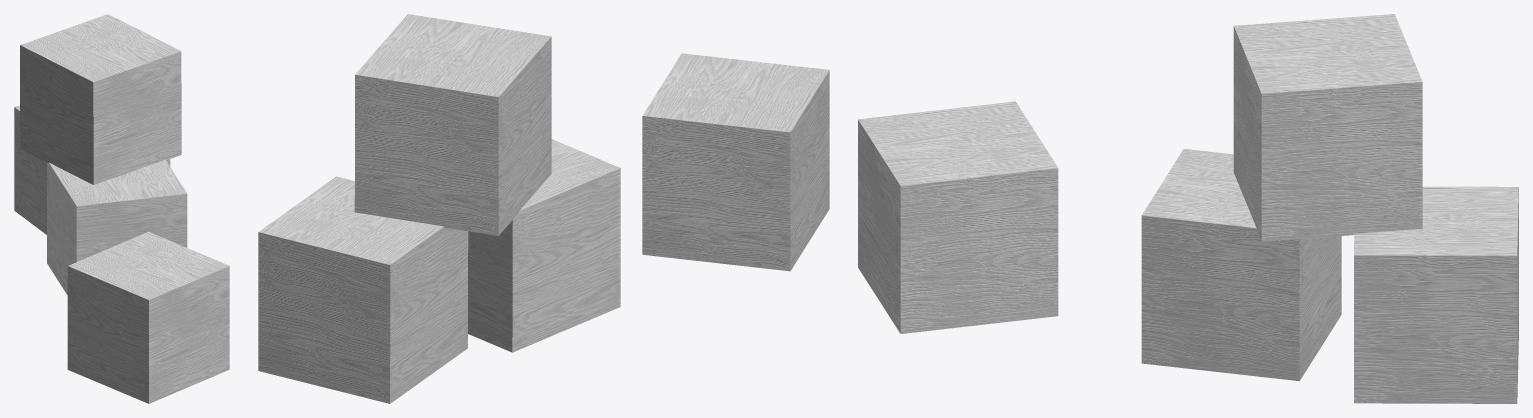
The model's file is woodenblocks.fbx.
The picture shows the model from 3 angles, left to right: view 1: azimuth 30°, elevation 25°; view 2: azimuth 150°, elevation 25°; view 3: azimuth 270°, elevation 25°; orthographic projection. The views are drawn at different scales.
Parts seen in each view (by area): view 1: NumberCube2, NumberCube4, NumberCube3, NumberCube; view 2: NumberCube4, NumberCube, NumberCube2, NumberCube3; view 3: NumberCube2, NumberCube4, NumberCube3, NumberCube.
Part boxes in pixels (x1=…): NumberCube2: x1=67, y1=231, x2=229, y2=403; NumberCube4: x1=20, y1=14, x2=181, y2=184; NumberCube3: x1=47, y1=159, x2=187, y2=294; NumberCube: x1=14, y1=105, x2=170, y2=234; NumberCube4: x1=354, y1=14, x2=551, y2=235; NumberCube: x1=258, y1=176, x2=468, y2=403; NumberCube2: x1=642, y1=53, x2=829, y2=271; NumberCube3: x1=468, y1=139, x2=620, y2=352; NumberCube2: x1=858, y1=101, x2=1058, y2=333; NumberCube4: x1=1233, y1=14, x2=1422, y2=241; NumberCube3: x1=1141, y1=149, x2=1341, y2=381; NumberCube: x1=1354, y1=186, x2=1518, y2=403.
Bounding box in the file's own units: 494 × 439 × 892.
1 material, 1 textured.
